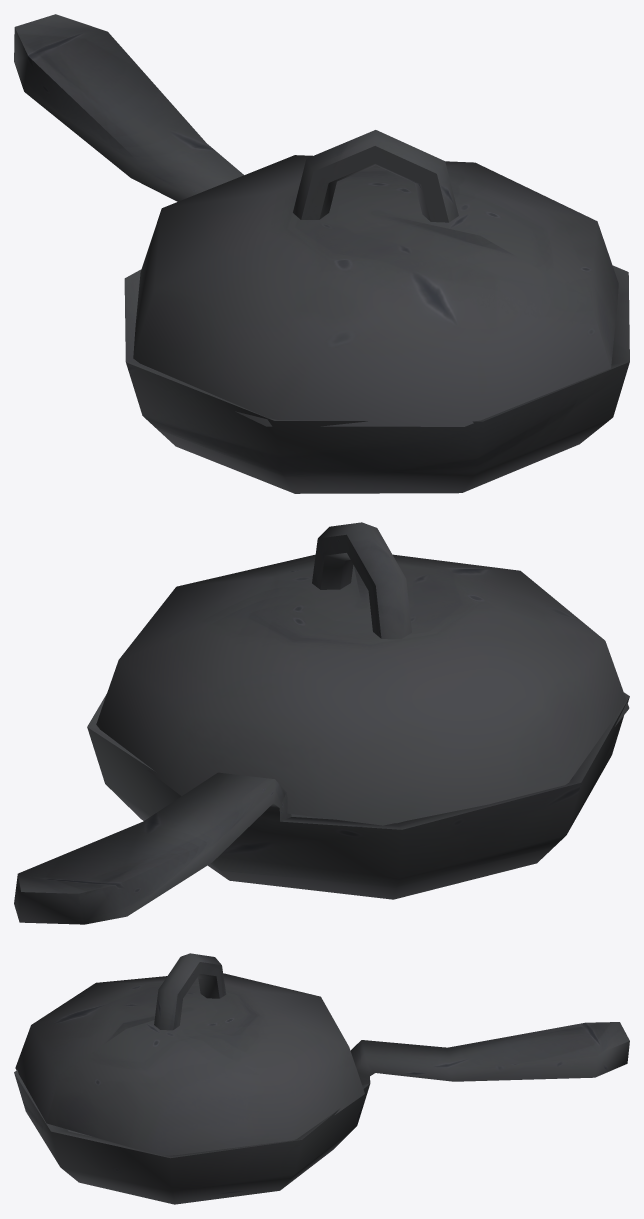
Rendered from SM_PROP_pan.fbx.
3 renders of one model, top to bottom at view 1: azimuth 30°, elevation 25°; view 2: azimuth 150°, elevation 25°; view 3: azimuth 270°, elevation 25°, orthographic. The views are drawn at different scales.
Parts seen in each view (by area): view 1: SM_PROP_pan_lid, SM_PROP_pan; view 2: SM_PROP_pan_lid, SM_PROP_pan; view 3: SM_PROP_pan_lid, SM_PROP_pan.
Part boxes in pixels (x1,y1,x2,y2): SM_PROP_pan_lid: [133, 130, 618, 426]; SM_PROP_pan: [14, 14, 629, 493]; SM_PROP_pan_lid: [96, 522, 629, 825]; SM_PROP_pan: [14, 692, 629, 924]; SM_PROP_pan_lid: [15, 953, 364, 1155]; SM_PROP_pan: [14, 1022, 629, 1204].
Size of the model in its own units: 43.77 by 25.33 by 73.94.
